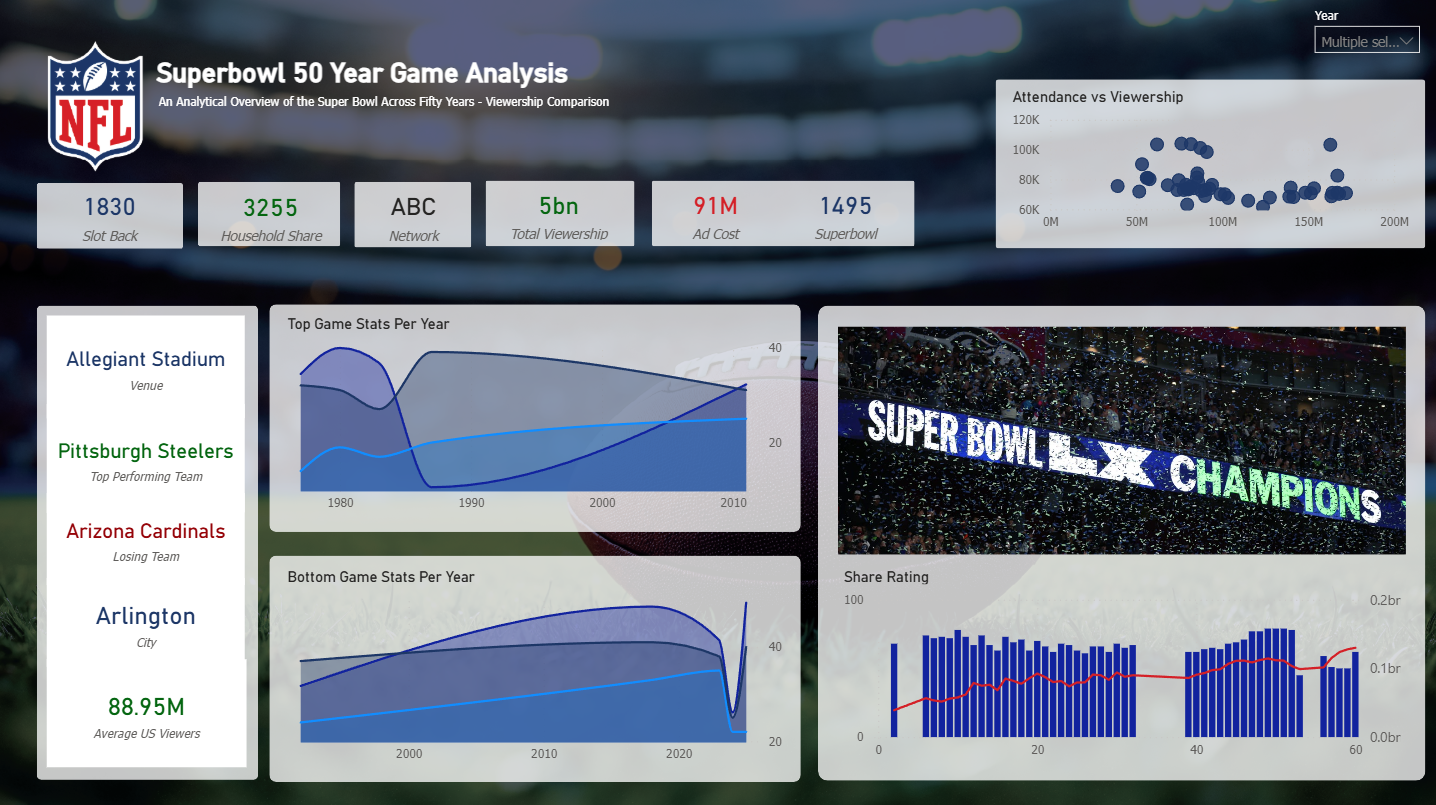

The page's visual inventory and layout, read from the dashboard file:
{"tool":"powerbi","page":{"name":"Viewership Comparison","canvas":[1280,720],"ordinal":2},"visuals":[{"type":"image","box":[0,0,1280,721.2],"z":0},{"type":"textbox","box":[135.3,47.5,430.7,41.5],"z":1000},{"type":"shape","box":[34,272.9,196.8,421.7],"z":2000},{"type":"shape","box":[34,164,130,58.6],"z":3000},{"type":"slicer","fields":{"Values":["super_bowls_final.date.Variation.Date Hierarchy.Year"]},"box":[1165.4,19.9,103.1,36.3],"z":4000},{"type":"card","fields":{"Values":["Sum(superbowl_final_dates_fixed.SB)"]},"box":[39.8,162.8,118.3,58.6],"z":5000},{"type":"shape","box":[178.1,163.3,126.6,57.4],"z":6000},{"type":"card","fields":{"Values":["Sum(tv_final_fixed.share_household)"]},"box":[179.5,163.3,125.1,58.9],"z":7000},{"type":"shape","box":[317,163.8,104.2,58.6],"z":8000},{"type":"shape","box":[241.2,272.5,472.5,202.5],"z":9000},{"type":"card","fields":{"Values":["Min(tv_final_fixed.network)"]},"box":[326.4,163.8,85.5,58.6],"z":10000},{"type":"shape","box":[433.8,162.5,132.5,58.8],"z":11000},{"type":"card","fields":{"Values":["Sum(tv_final_fixed.total_us_viewers)"]},"box":[438.8,162.5,118.8,57.5],"z":12000},{"type":"textbox","box":[137.5,76.4,491.4,42.3],"z":13000},{"type":"card","fields":{"Values":["Measures_Table.Top Performing Team"]},"box":[43.8,361.2,176.2,96.2],"z":14000},{"type":"card","fields":{"Values":["Min(super_bowls_final.venue)"]},"box":[43.8,282.5,176.2,91.2],"z":15000},{"type":"card","fields":{"Values":["Min(super_bowls_final.city)"]},"box":[43.8,515,176.2,78.8],"z":16000},{"type":"card","fields":{"Values":["Min(super_bowls_final.team_loser)"]},"box":[43.8,440,176.2,81.2],"z":17000},{"type":"shape","box":[241.2,495,472.5,201.2],"z":18000},{"type":"shape","box":[728.8,273.8,540,422.5],"z":19000},{"type":"shape","box":[886.4,71.7,382.1,150.5],"z":20000},{"type":"textbox","box":[1165,0,103.5,37.6],"z":21000},{"type":"card","fields":{"Values":["Avg(tv_final_fixed.avg_us_viewers)"]},"box":[43.8,587.5,177.5,96.2],"z":22000},{"type":"scatterChart","title":"Attendance vs Viewership","fields":{"X":["Sum(tv_final_fixed.total_us_viewers)"],"Y":["super_bowls_final.attendance"],"Size":["CountNonNull(super_bowls_final.venue)"]},"box":[896.2,80,362.5,135],"z":23000},{"type":"shape","box":[581.2,162.5,233.8,58.8],"z":24000},{"type":"card","fields":{"Values":["Sum(tv_final_fixed.ad_cost)"]},"box":[576.2,162.5,122.5,58.8],"z":25000},{"type":"areaChart","title":"Top Game Stats Per Year","fields":{"Category":["super_bowls_final.Date.Variation.Date Hierarchy.Year"],"Y":["Sum(super_bowls_final.attendance)"],"Y2":["Sum(super_bowls_final.losing_pts)","Sum(super_bowls_final.winning_pts)"]},"box":[252.5,282.5,450,182.5],"z":26000},{"type":"areaChart","title":"Bottom Game Stats Per Year","fields":{"Category":["super_bowls_final.Date.Variation.Date Hierarchy.Year"],"Y":["Sum(super_bowls_final.attendance)"],"Y2":["Sum(super_bowls_final.losing_pts)","Sum(super_bowls_final.winning_pts)"]},"box":[252.5,506.2,450,181.2],"z":27000},{"type":"card","fields":{"Values":["Sum(super_bowls_final.super_bowl)"]},"box":[692.5,162.5,122.5,58.8],"z":28000},{"type":"lineClusteredColumnComboChart","title":"Share Rating","fields":{"Category":["tv_final_fixed.super_bowl"],"Y":["Sum(tv_final_fixed.share_18_49)"],"Y2":["Sum(tv_final_fixed.avg_us_viewers)"]},"box":[746.2,506.2,505,177.5],"z":29000},{"type":"image","box":[746.2,292.5,505,202.5],"z":30000}]}

Visuals, with their boxes in screenshot pixels (x1, y1, x2, y2), scaled from the page's 1280x720 canvas onto the 1436x805 screenshot:
image: box(0, 0, 1435, 804)
textbox: box(152, 53, 635, 100)
shape: box(38, 305, 259, 777)
shape: box(38, 183, 184, 249)
slicer - super_bowls_final.date.Variation.Date Hierarchy.Year: box(1307, 22, 1423, 63)
card - Sum(superbowl_final_dates_fixed.SB): box(45, 182, 177, 248)
shape: box(200, 183, 342, 247)
card - Sum(tv_final_fixed.share_household): box(201, 183, 342, 248)
shape: box(356, 183, 473, 249)
shape: box(271, 305, 801, 531)
card - Min(tv_final_fixed.network): box(366, 183, 462, 249)
shape: box(487, 182, 635, 247)
card - Sum(tv_final_fixed.total_us_viewers): box(492, 182, 626, 246)
textbox: box(154, 85, 706, 133)
card - Measures_Table.Top Performing Team: box(49, 404, 247, 511)
card - Min(super_bowls_final.venue): box(49, 316, 247, 418)
card - Min(super_bowls_final.city): box(49, 576, 247, 664)
card - Min(super_bowls_final.team_loser): box(49, 492, 247, 583)
shape: box(271, 553, 801, 778)
shape: box(818, 306, 1423, 779)
shape: box(994, 80, 1423, 248)
textbox: box(1307, 0, 1423, 42)
card - Avg(tv_final_fixed.avg_us_viewers): box(49, 657, 248, 764)
"Attendance vs Viewership" scatterChart: box(1005, 89, 1412, 240)
shape: box(652, 182, 914, 247)
card - Sum(tv_final_fixed.ad_cost): box(646, 182, 784, 247)
"Top Game Stats Per Year" areaChart: box(283, 316, 788, 520)
"Bottom Game Stats Per Year" areaChart: box(283, 566, 788, 769)
card - Sum(super_bowls_final.super_bowl): box(777, 182, 914, 247)
"Share Rating" lineClusteredColumnComboChart: box(837, 566, 1404, 764)
image: box(837, 327, 1404, 553)
